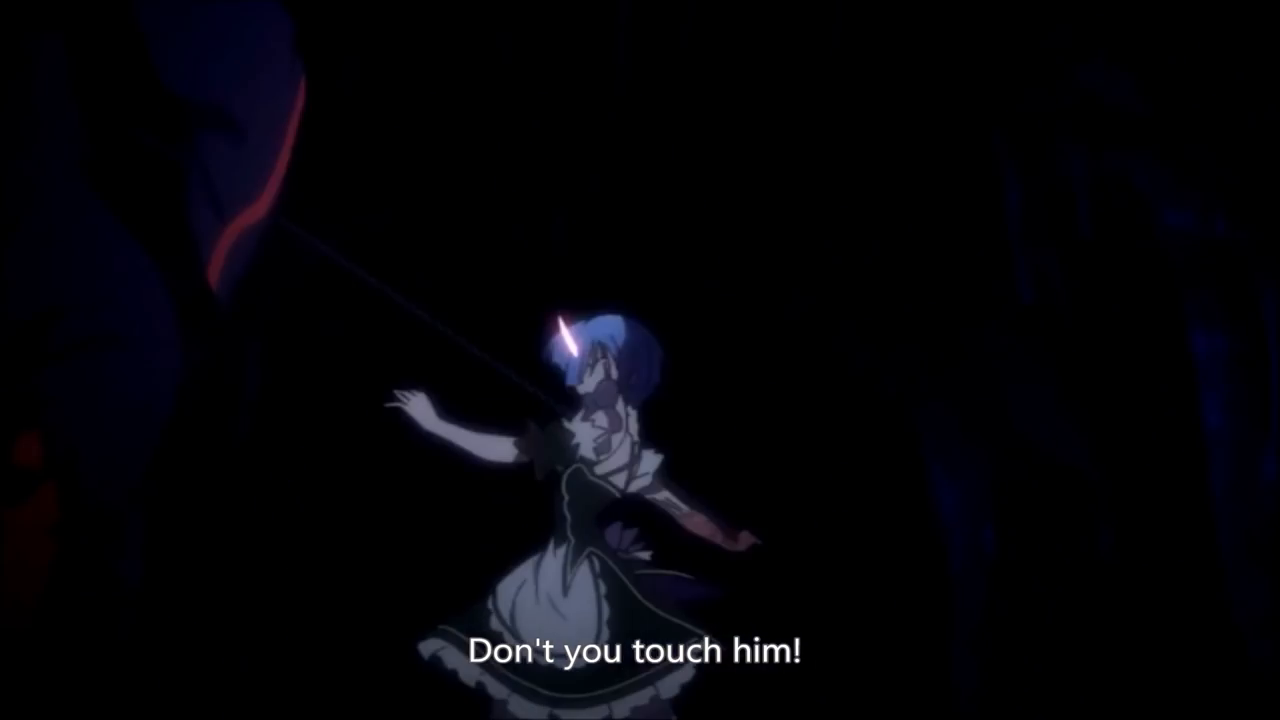REM: (543, 311, 668, 419)
